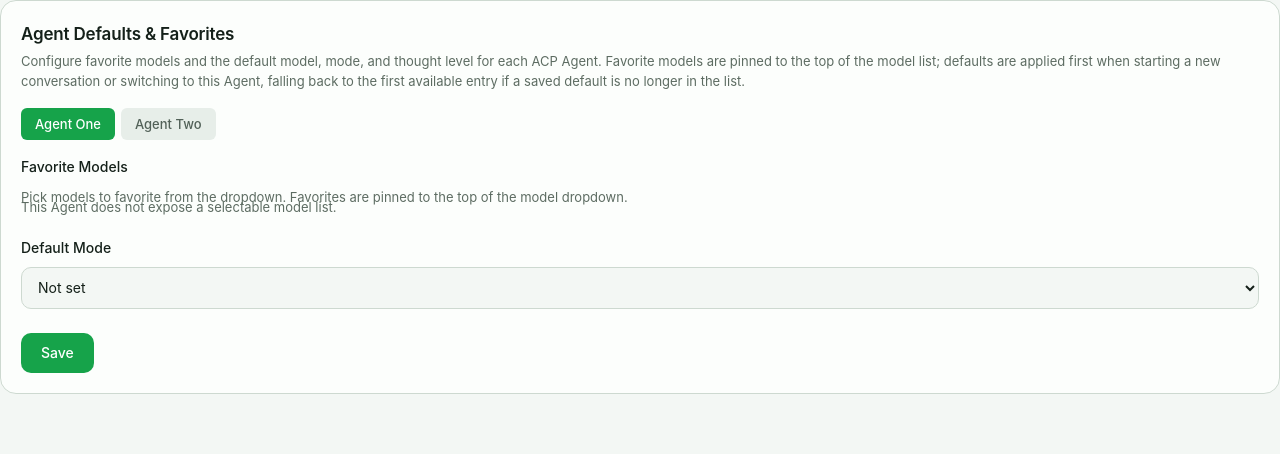
Agent settings load guards › keeps only failed Agent defaults dirty after a partial save
Select "Auto" in the dropdown: (640, 288) top-left (21, 266), bottom-right (1259, 308)
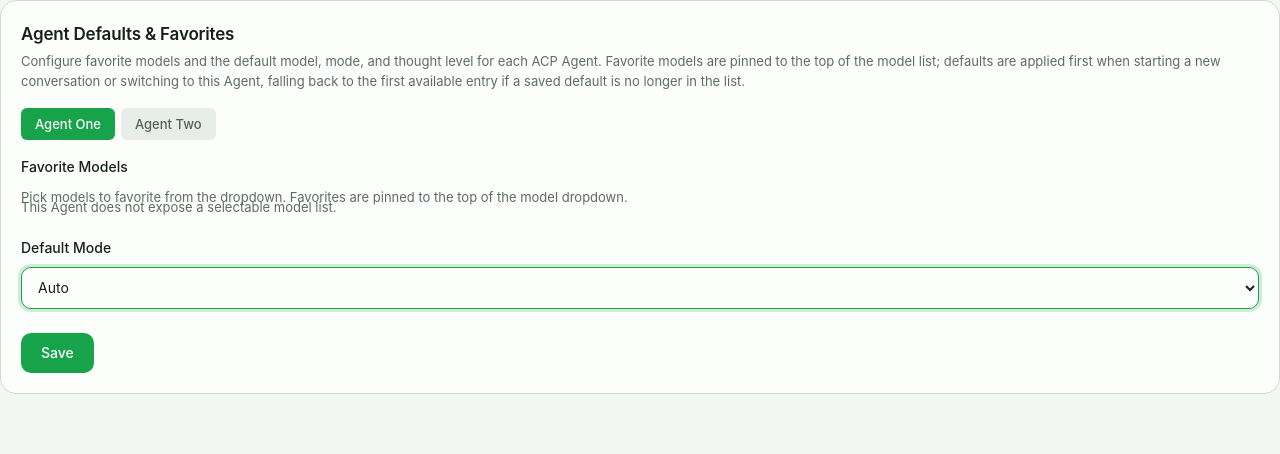
Click the text "Agent Two": (168, 124) top-left (121, 108), bottom-right (216, 140)
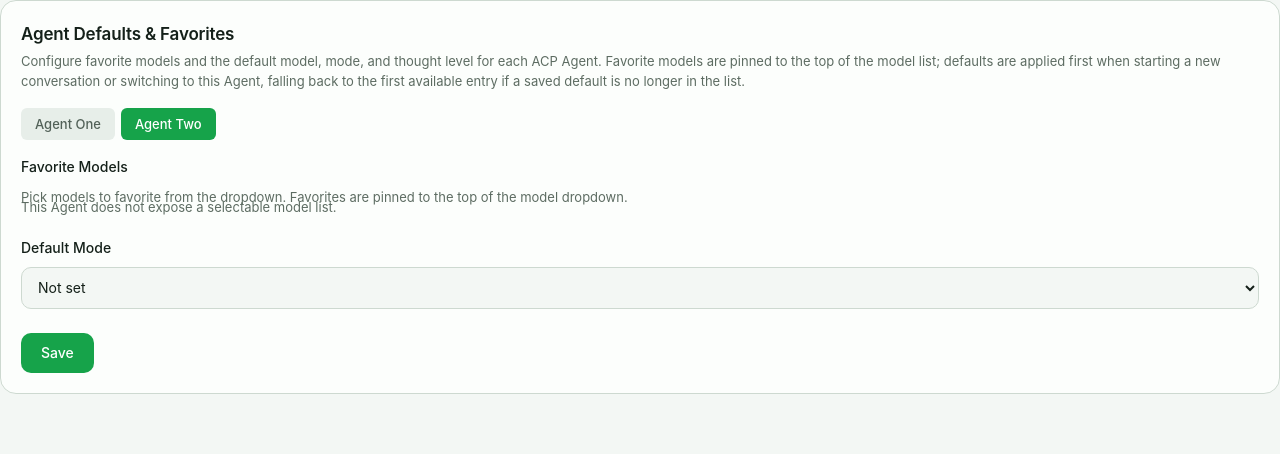
Select "Auto" in the dropdown: (640, 288) top-left (21, 266), bottom-right (1259, 308)
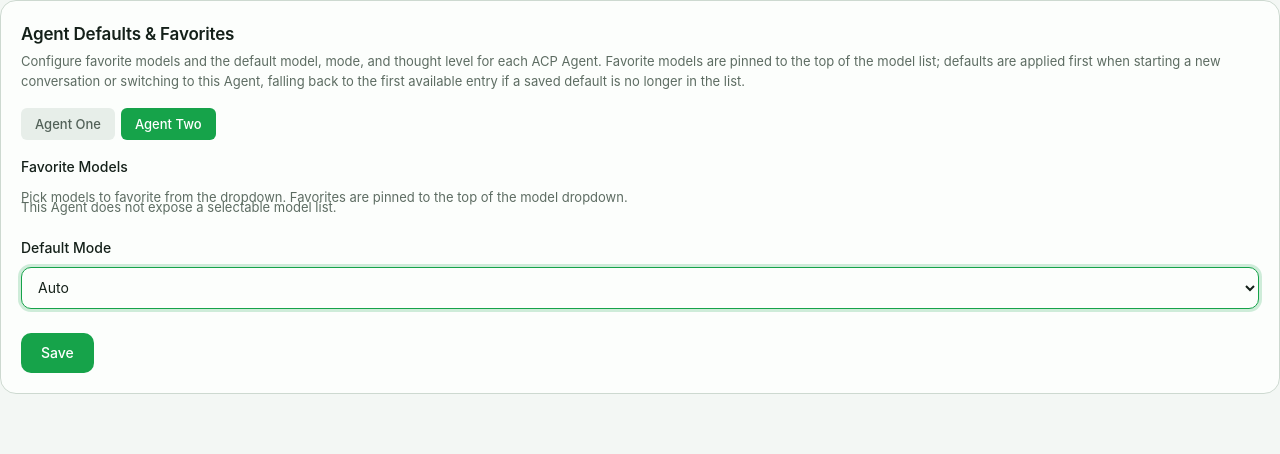
Click the button with test id "agent-defaults-save-button": (57, 352) top-left (21, 332), bottom-right (94, 372)
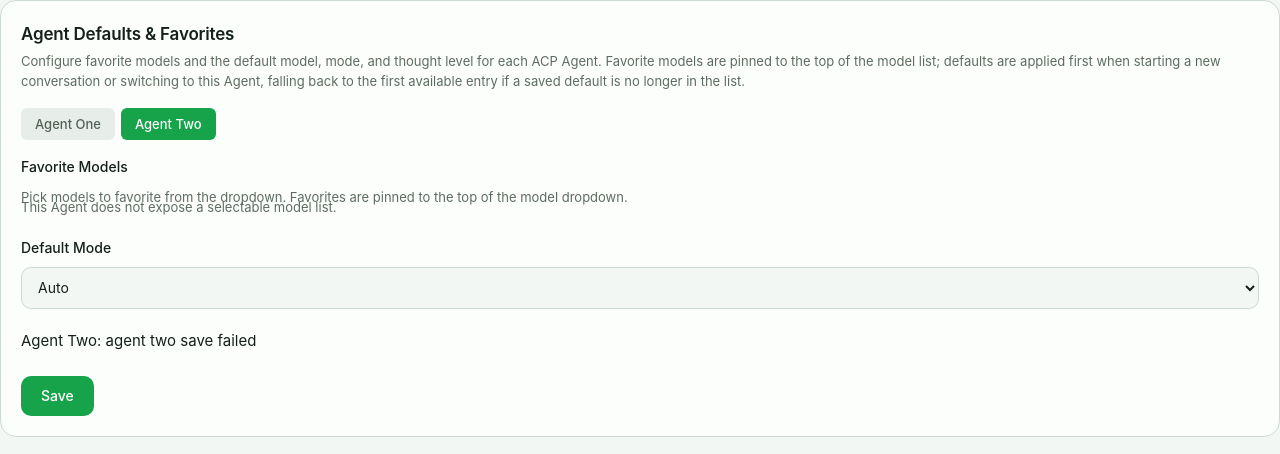
Expected: the text "Agent Two: agent two save failed" is shown, top-left (21, 330), bottom-right (256, 350)
Click the button with test id "agent-defaults-save-button": (57, 396) top-left (21, 376), bottom-right (94, 416)
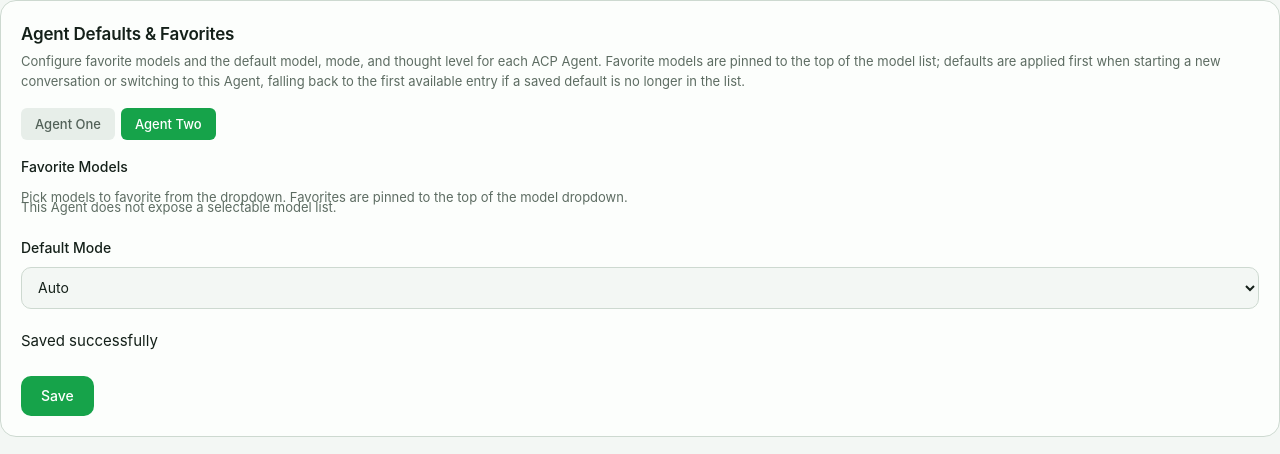
Expected: the text "Saved successfully" is shown, top-left (21, 330), bottom-right (158, 350)
